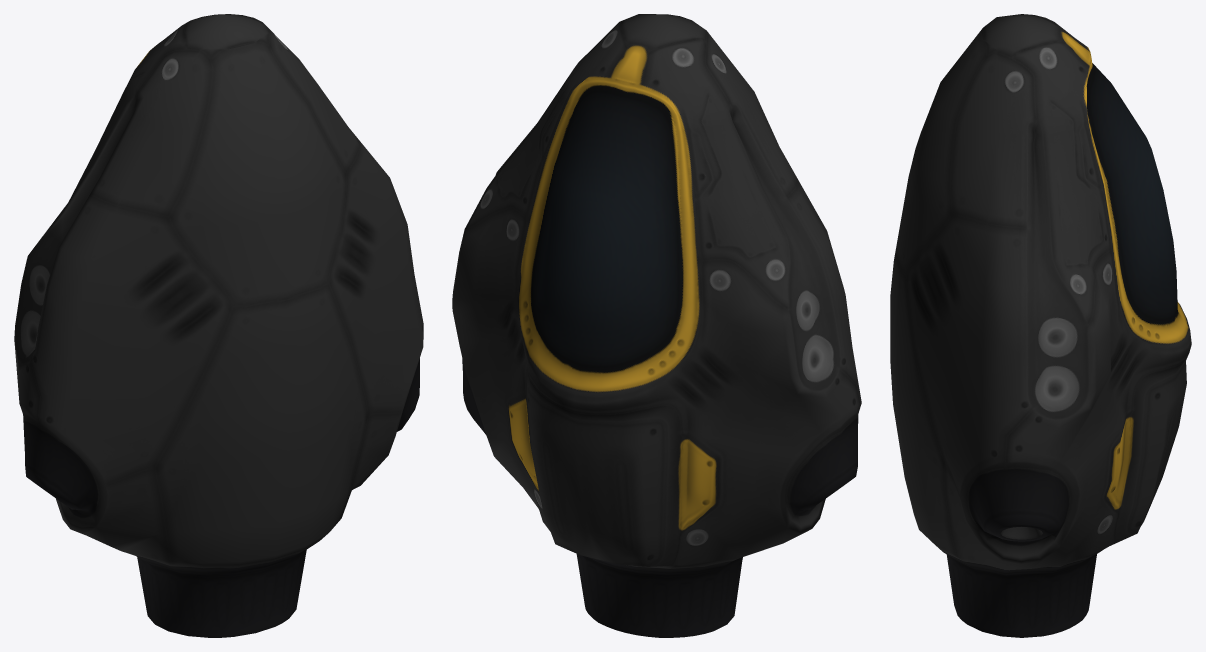
The model's file is Ship2.obj.
3 views of the same model, side by side, from view 1: azimuth 30°, elevation 25°; view 2: azimuth 150°, elevation 25°; view 3: azimuth 270°, elevation 25° (orthographic).
Visible parts, largest first — view 1: ship2_group; view 2: ship2_group; view 3: ship2_group.
Boxes of the visible parts, box(x1,y1,x2,y2) form: ship2_group: box(14, 14, 423, 637); ship2_group: box(452, 14, 861, 637); ship2_group: box(890, 14, 1191, 637).
Size of the model in its own units: 7.11 by 10.38 by 4.82.
Materials: 1 (1 with a texture image).
